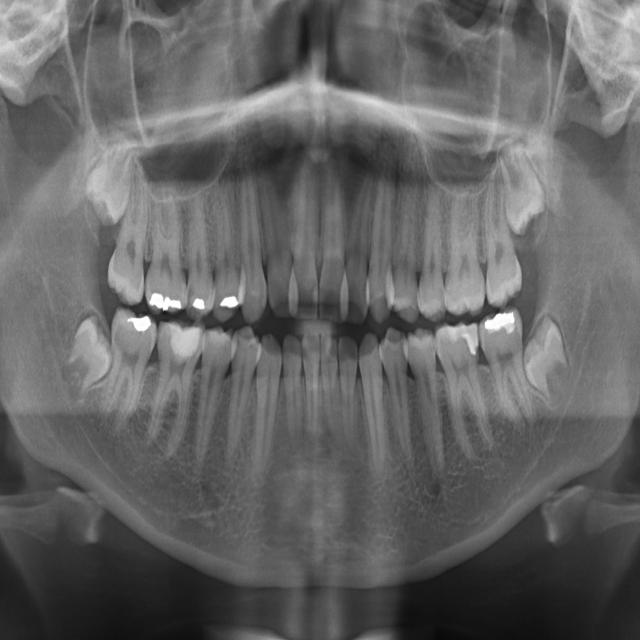AmalgamRestoration: (150, 288, 184, 315), (485, 309, 516, 336), (125, 314, 151, 332), (219, 291, 240, 312), (191, 297, 206, 312)
CompositeResinRestoration: (168, 321, 200, 363), (456, 324, 481, 352), (310, 281, 319, 307)
Crown: (467, 339, 480, 361)
DentalCaries: (187, 285, 194, 307)
